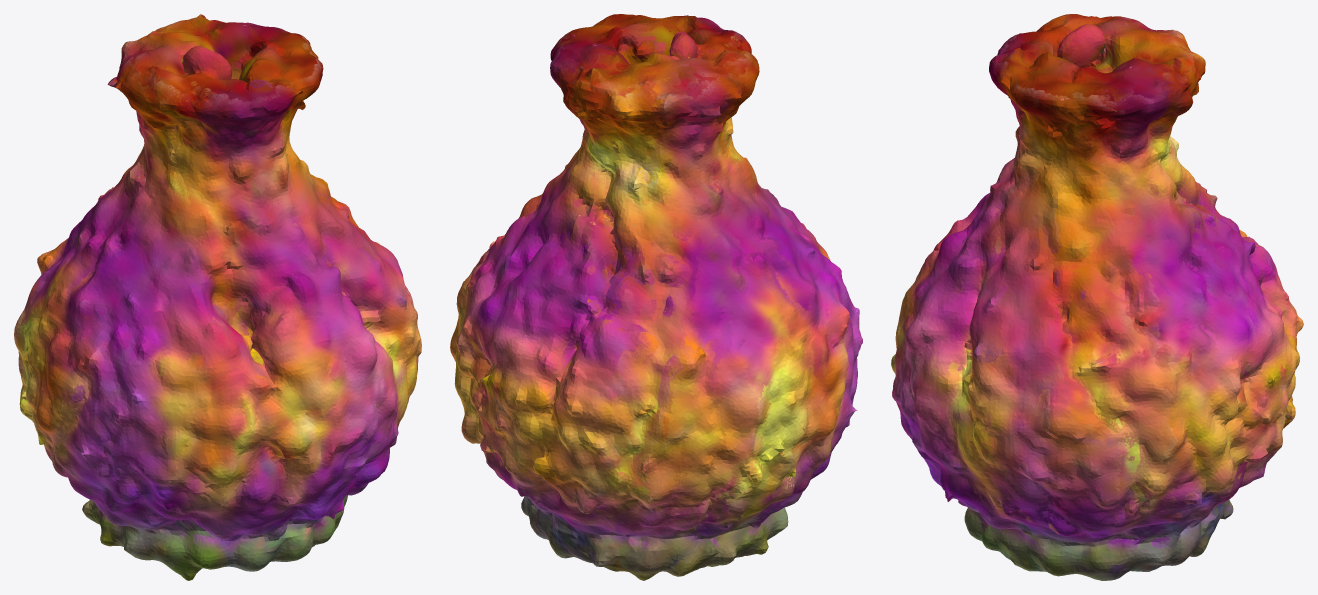
File: vase.glb
The picture shows the model from 3 angles, left to right: view 1: azimuth 30°, elevation 25°; view 2: azimuth 150°, elevation 25°; view 3: azimuth 270°, elevation 25°; orthographic projection.
Bounding box in the file's own units: 1.47 × 1.98 × 1.46.
Materials: 1 (1 with a texture image).
